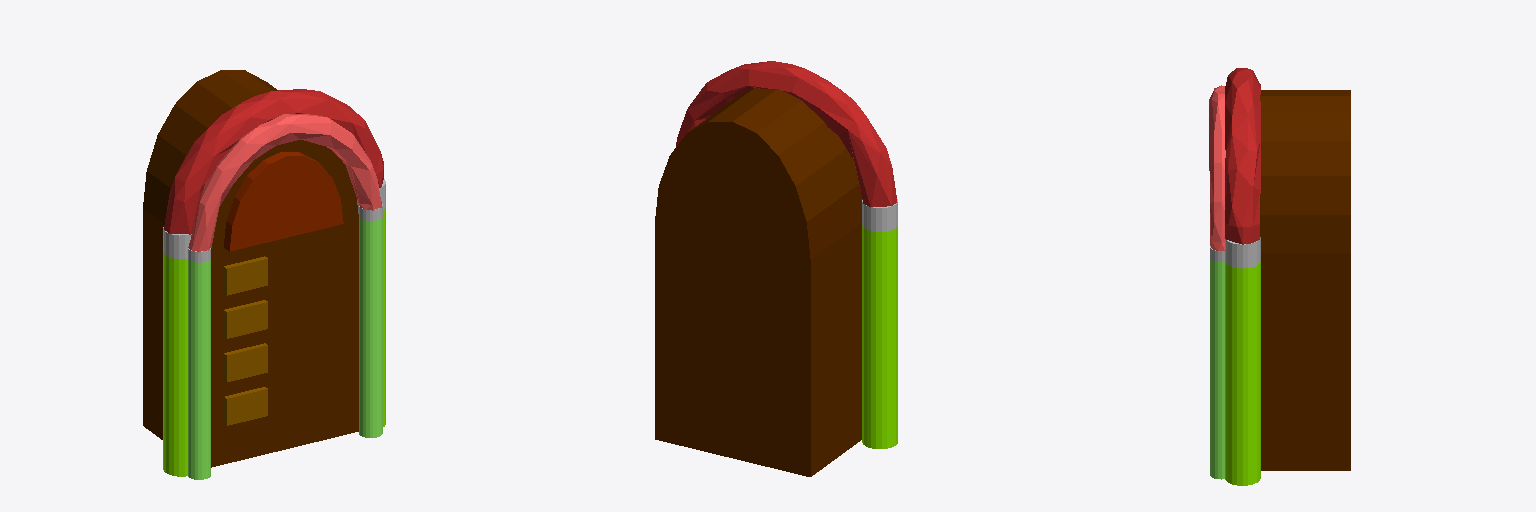
3 renders of one model, left to right at view 1: azimuth 30°, elevation 25°; view 2: azimuth 150°, elevation 25°; view 3: azimuth 270°, elevation 25°, orthographic.
Parts seen in each view (by area): view 1: body, up, bocina, pTorus1, arcoL, tube1, tubeL2, tubeL1, pCube3, pCube4, pCube1, pCube2 (+1 smaller); view 2: body, up, pTorus1, tube1; view 3: body, up, tube2, pTorus1, tubeL2, arcoL.
Boxes of the visible parts, x1,y1,x2,y2 form: body: [143, 209, 358, 467]; up: [143, 70, 357, 249]; bocina: [224, 152, 343, 251]; pTorus1: [164, 89, 383, 234]; arcoL: [188, 114, 381, 252]; tube1: [163, 252, 187, 476]; tubeL2: [359, 217, 382, 437]; tubeL1: [188, 259, 210, 479]; pCube3: [224, 343, 267, 382]; pCube4: [224, 387, 267, 425]; pCube1: [224, 256, 267, 295]; pCube2: [224, 300, 267, 338]; body: [655, 222, 861, 476]; up: [655, 88, 861, 259]; pTorus1: [676, 61, 896, 206]; tube1: [862, 226, 897, 448]; body: [1261, 253, 1350, 470]; up: [1260, 90, 1350, 252]; tube2: [1225, 261, 1260, 485]; pTorus1: [1225, 68, 1260, 244]; tubeL2: [1210, 259, 1224, 479]; arcoL: [1209, 85, 1225, 250].
Bounding box in the file's own units: 2.1 × 3.25 × 1.18.
8 materials, 8 textured.